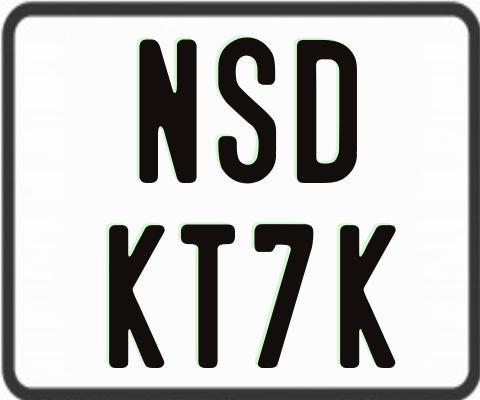7: (254, 223, 314, 373)
D: (294, 37, 355, 181)
K: (108, 224, 169, 372), (340, 224, 397, 370)
N: (138, 36, 199, 181)
S: (218, 35, 279, 185)
T: (181, 221, 241, 366)
